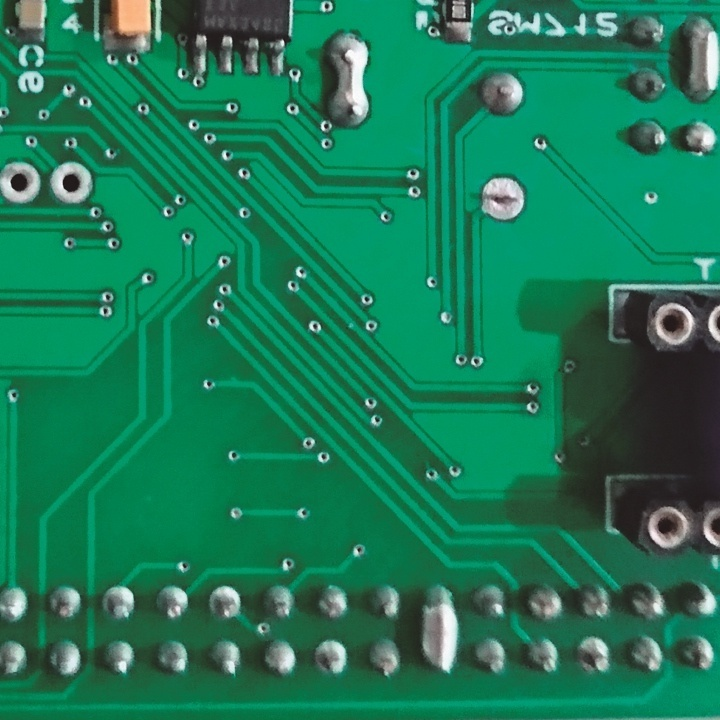F: (479, 173, 529, 226), (45, 160, 98, 209), (572, 632, 618, 683), (1, 155, 46, 207), (312, 636, 354, 682), (97, 580, 139, 625), (204, 580, 246, 623)
P: (323, 29, 376, 130), (416, 577, 463, 684), (680, 13, 720, 105)
